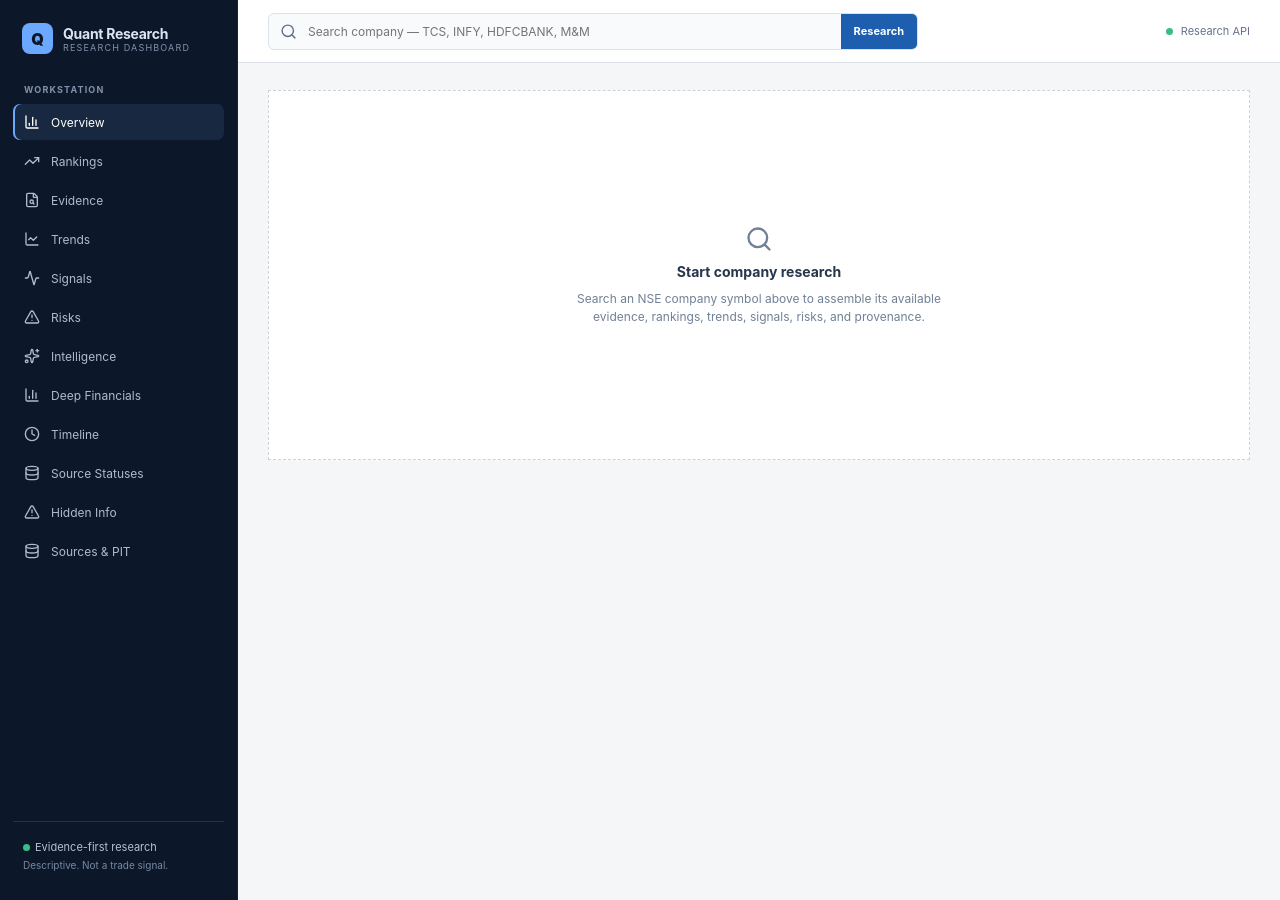
App › renders the structured error contract on failure
The width and height of the screenshot is (1280, 900).
In the field named "Company search": x=569, y=31 [306,22,832,40], type "TCS"
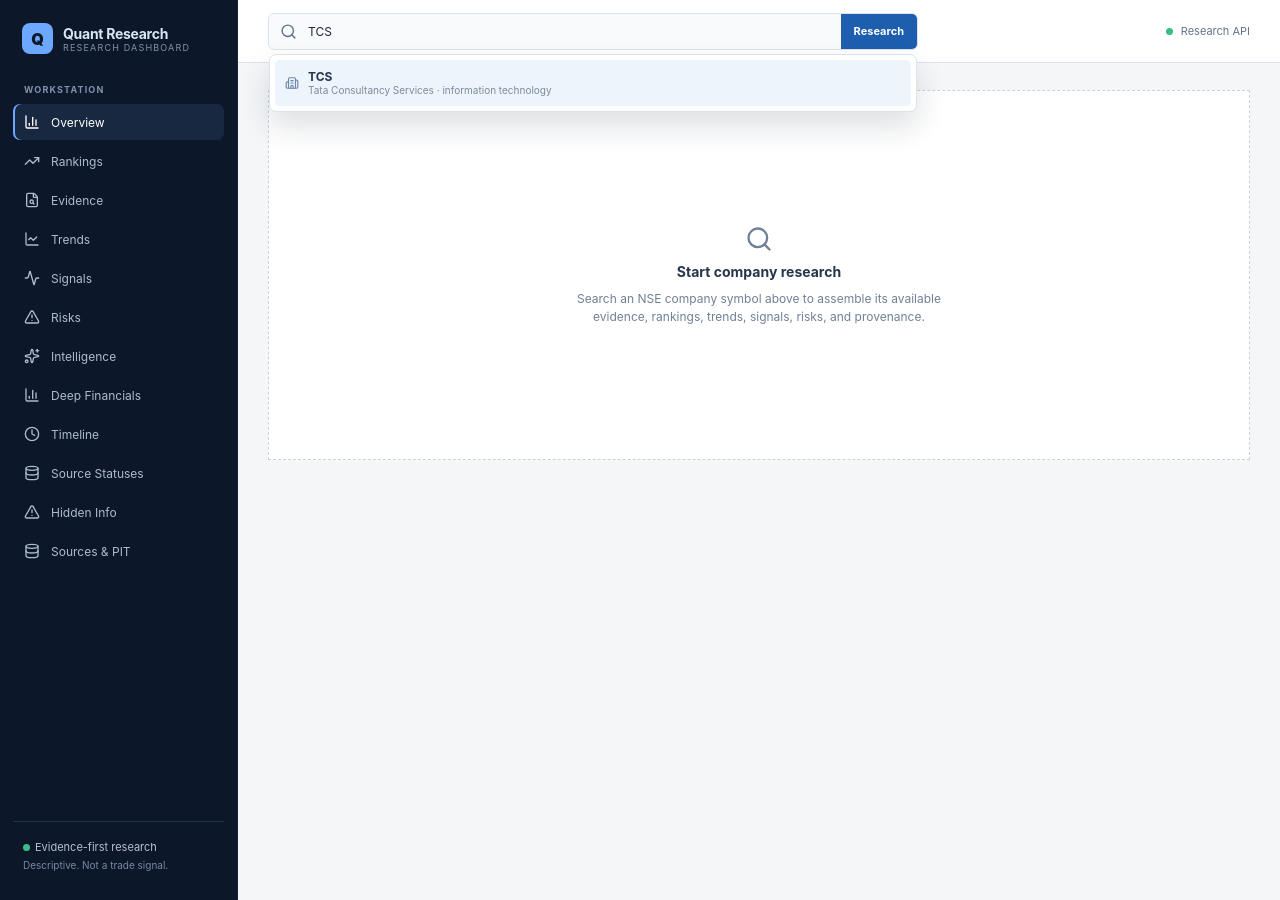
Click the text "TCS": x=320, y=76 [308,68,332,84]
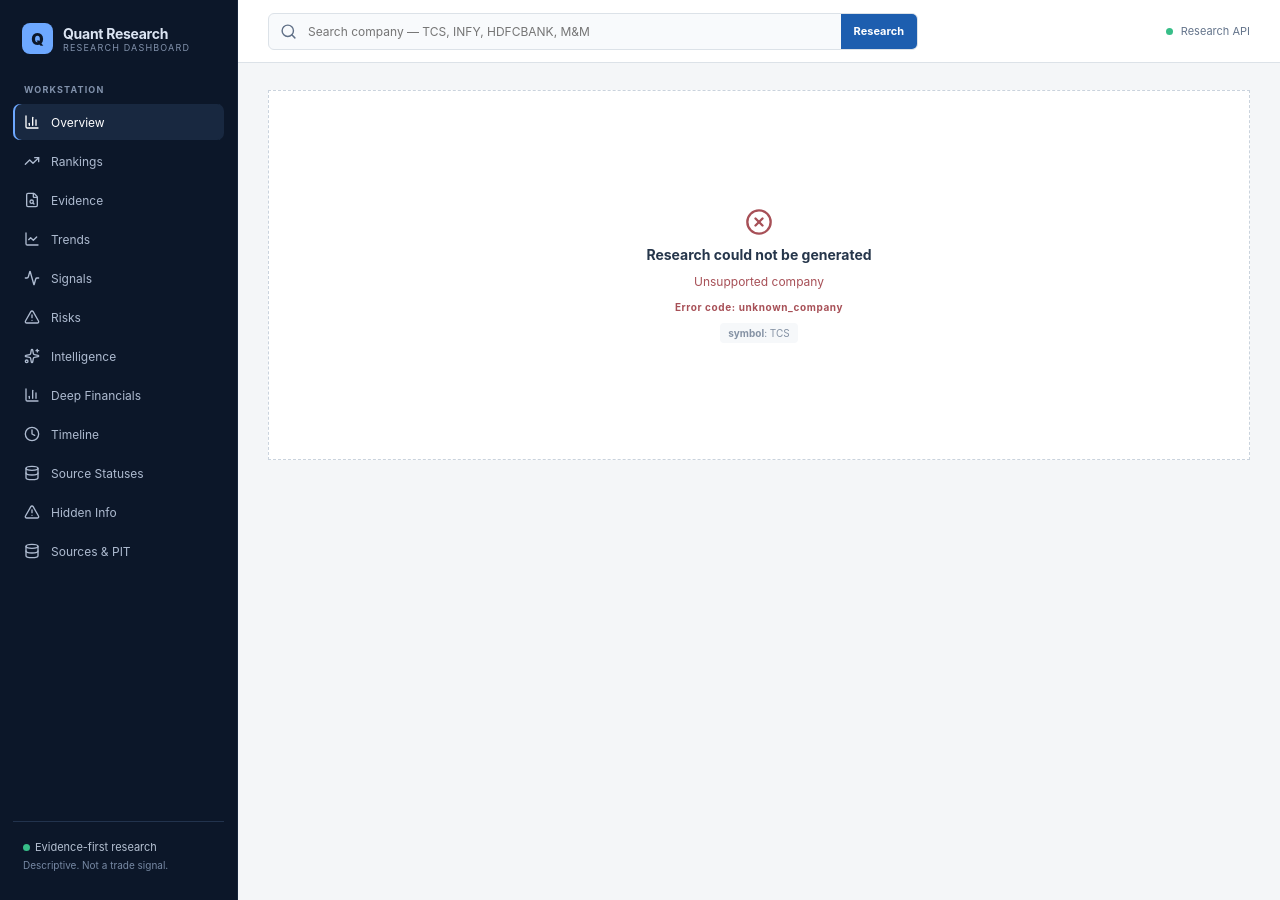
Expected: the text "Unsupported company" is shown, [694,272,824,290]
Expected: the text "Error code: unknown_company" is shown, [675,300,843,312]
